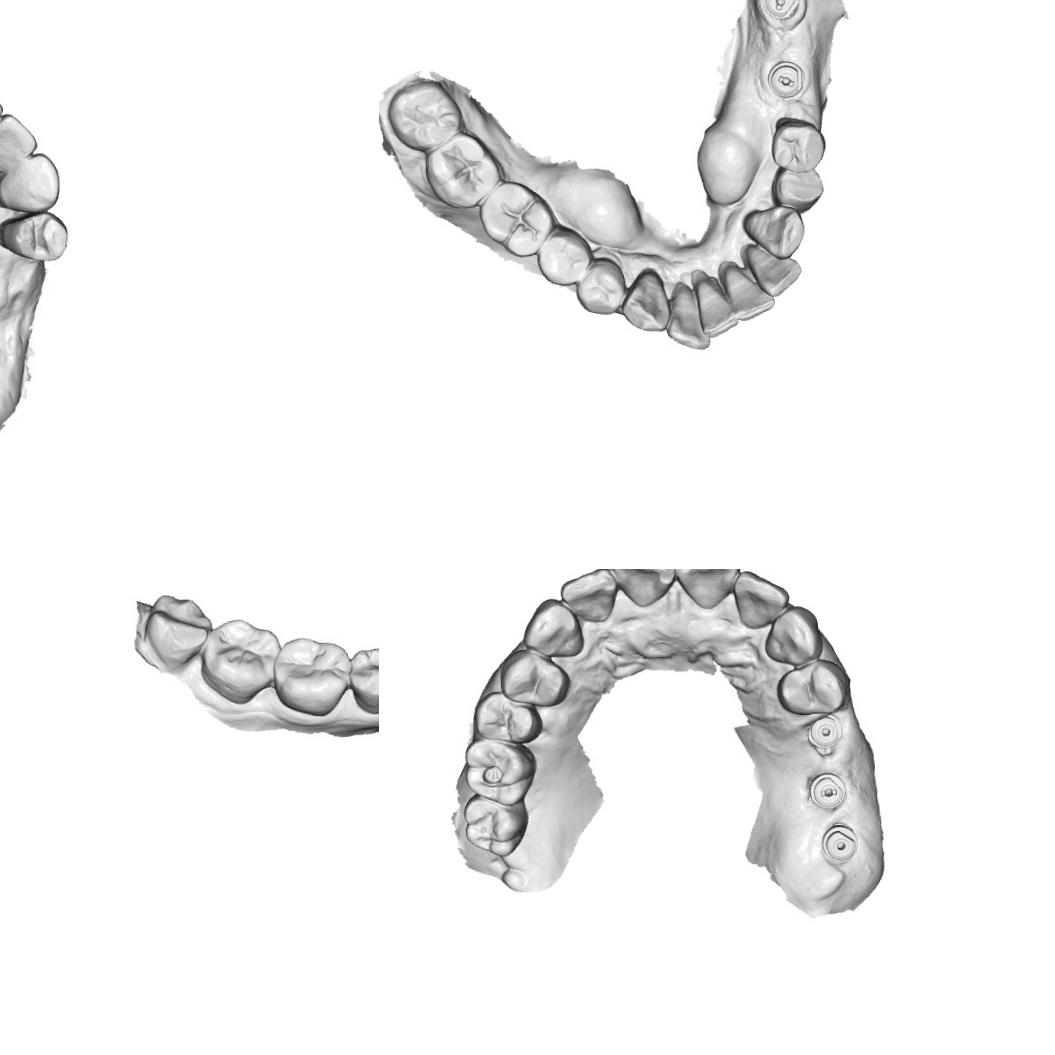canine: (761, 602, 827, 669), (520, 596, 588, 660), (0, 152, 63, 218), (740, 202, 808, 261), (618, 266, 671, 334)
implant: (818, 821, 860, 864), (806, 710, 844, 752)
implant_minus: (806, 768, 851, 813), (765, 58, 805, 100), (761, 0, 803, 23)
incisor: (732, 569, 792, 632), (744, 241, 802, 300), (557, 569, 618, 625), (665, 284, 711, 354), (722, 262, 775, 321), (0, 108, 43, 176), (674, 569, 741, 612), (610, 569, 678, 611), (694, 276, 739, 336)
molar: (198, 616, 285, 702), (421, 128, 507, 212), (272, 633, 354, 719), (477, 176, 559, 260), (384, 76, 466, 154), (460, 734, 540, 809), (142, 590, 215, 670), (460, 792, 532, 860)
premolar: (496, 647, 572, 710), (773, 658, 850, 719), (470, 688, 546, 746), (532, 222, 596, 288), (3, 210, 72, 268), (572, 255, 628, 318), (768, 115, 828, 172), (768, 161, 827, 214), (348, 644, 379, 715)
